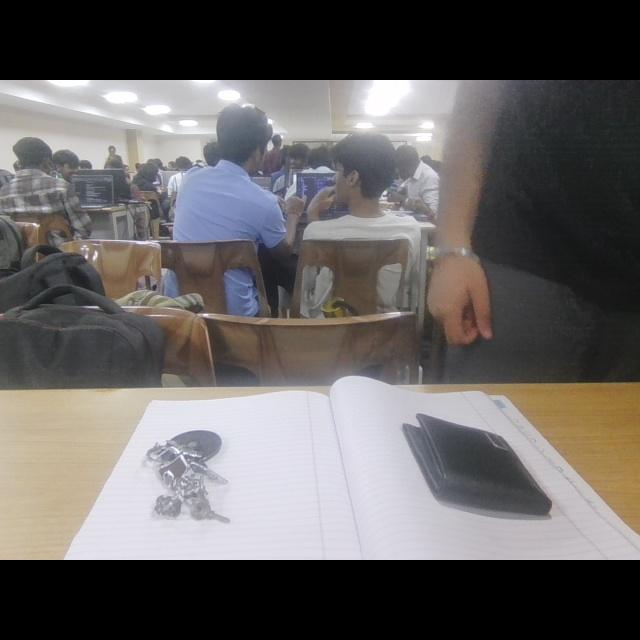keys: (139, 413, 251, 537)
wallet: (392, 408, 562, 534)
